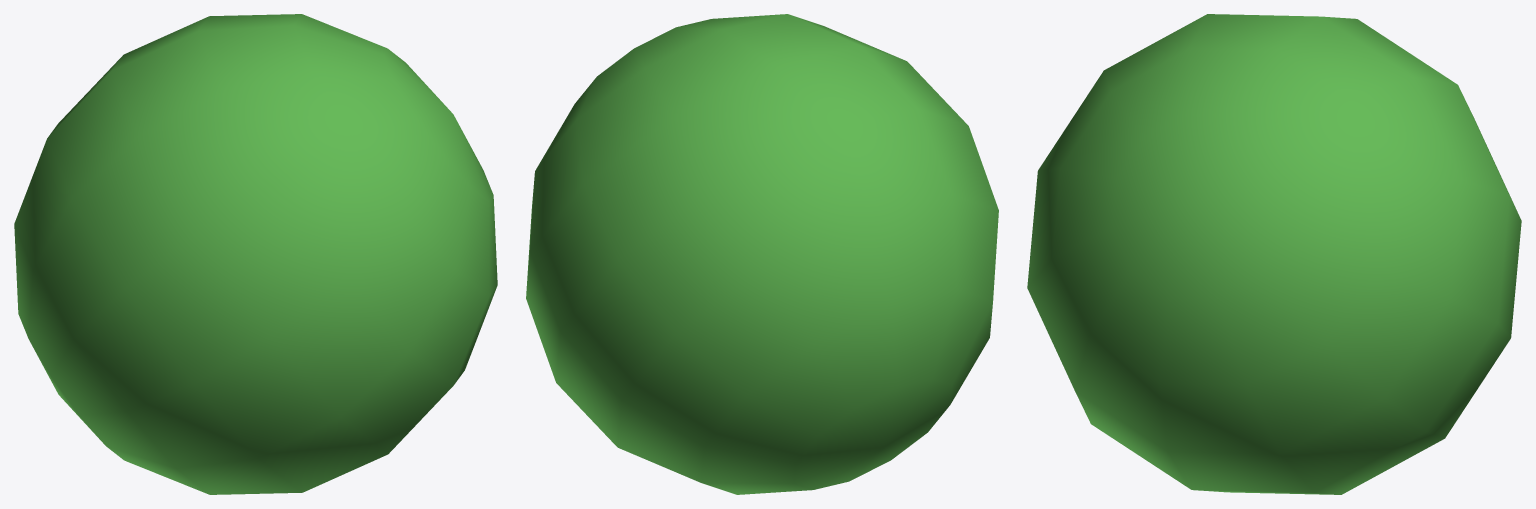
File: linfatico-retropyloric-nodes.glb
3 views of the same model, side by side, from view 1: azimuth 30°, elevation 25°; view 2: azimuth 150°, elevation 25°; view 3: azimuth 270°, elevation 25° (orthographic). The views are drawn at different scales.
Parts seen in each view (by area): view 1: (Retropyloric nodes); view 2: (Retropyloric nodes); view 3: (Retropyloric nodes).
Part boxes in pixels (box(x1,y1,x2,y2)): (Retropyloric nodes): box(14, 14, 497, 494); (Retropyloric nodes): box(526, 14, 998, 494); (Retropyloric nodes): box(1027, 14, 1521, 494).
Bounding box in the file's own units: 0.00257 × 0.00256 × 0.00256.
